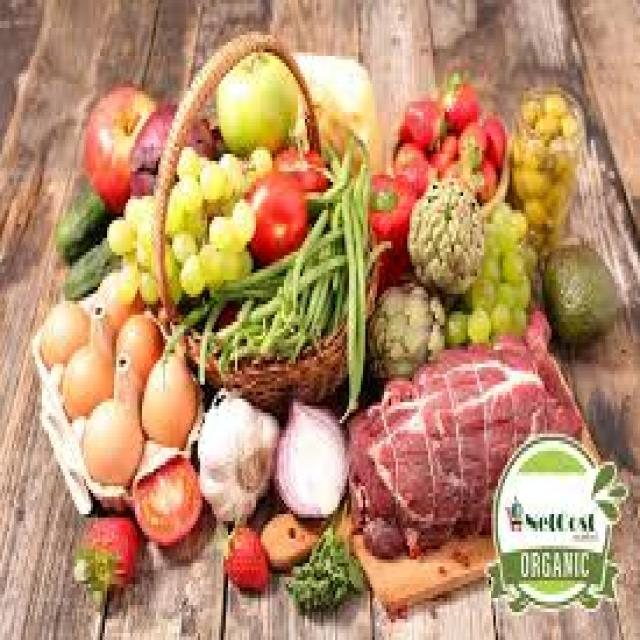organic waste: (344, 311, 582, 560), (286, 38, 382, 168), (200, 252, 347, 332), (195, 385, 277, 521), (405, 171, 482, 287), (82, 80, 152, 206), (272, 392, 344, 514), (214, 49, 291, 154), (366, 276, 444, 378), (130, 91, 210, 185), (544, 242, 616, 340), (335, 172, 363, 424), (130, 444, 198, 542), (286, 206, 331, 354), (72, 500, 135, 602), (242, 161, 305, 259), (288, 521, 361, 602), (81, 392, 142, 479), (207, 307, 300, 363), (140, 346, 193, 444), (202, 248, 298, 298), (310, 126, 368, 203), (168, 300, 221, 384), (54, 186, 110, 256), (60, 336, 111, 412), (340, 178, 356, 413), (335, 235, 391, 298), (370, 172, 419, 242), (258, 507, 319, 563), (63, 238, 121, 294), (221, 521, 268, 588), (116, 311, 163, 378), (38, 294, 88, 356), (274, 136, 324, 192), (440, 66, 477, 126), (102, 280, 140, 332), (403, 94, 442, 144), (391, 143, 426, 189), (482, 109, 505, 164), (105, 259, 137, 297), (426, 129, 456, 168), (158, 185, 184, 228), (107, 210, 130, 255), (175, 140, 202, 178), (179, 248, 205, 287), (456, 119, 480, 161), (547, 175, 570, 217), (521, 196, 552, 227), (230, 192, 252, 235), (205, 213, 233, 245), (175, 172, 200, 206), (519, 168, 549, 196), (522, 140, 556, 164), (219, 248, 251, 273), (491, 298, 510, 340), (447, 308, 470, 342), (466, 308, 491, 339), (216, 150, 240, 182), (198, 238, 216, 280), (512, 262, 531, 301), (249, 143, 272, 175), (198, 157, 221, 189), (133, 224, 149, 269), (533, 115, 561, 140), (475, 154, 493, 192), (123, 192, 142, 228), (556, 144, 575, 178), (182, 203, 202, 234), (137, 266, 156, 297), (470, 273, 491, 301), (507, 298, 524, 332), (482, 245, 498, 276), (233, 154, 249, 185), (172, 227, 191, 252), (519, 241, 533, 273), (542, 91, 563, 112), (496, 273, 514, 297), (521, 91, 538, 115), (140, 186, 151, 220), (505, 206, 524, 224), (486, 214, 498, 242), (561, 108, 575, 130), (505, 241, 514, 273), (496, 196, 505, 220), (232, 231, 240, 245)
